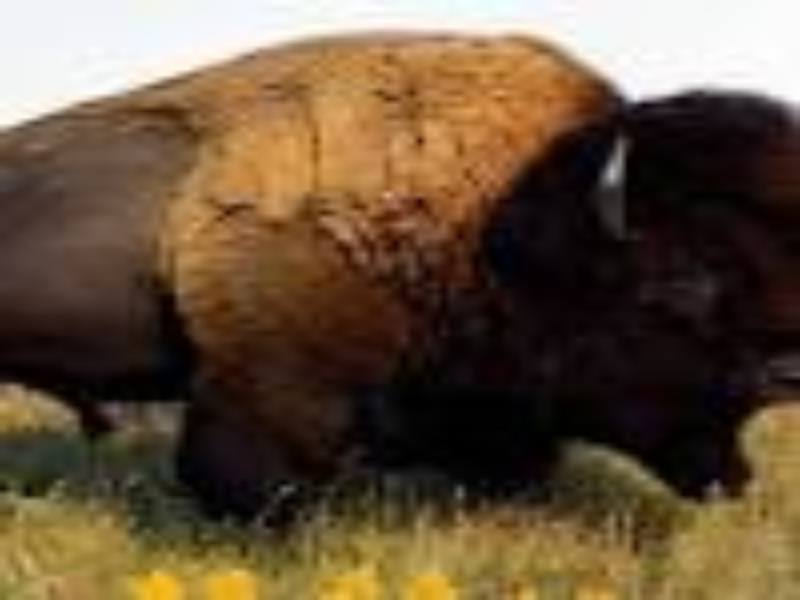buffalo: (14, 35, 800, 548)
